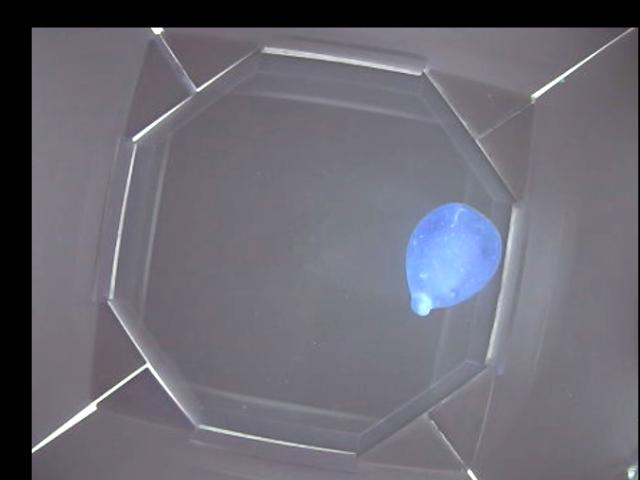Potato: (404, 201, 500, 316)
